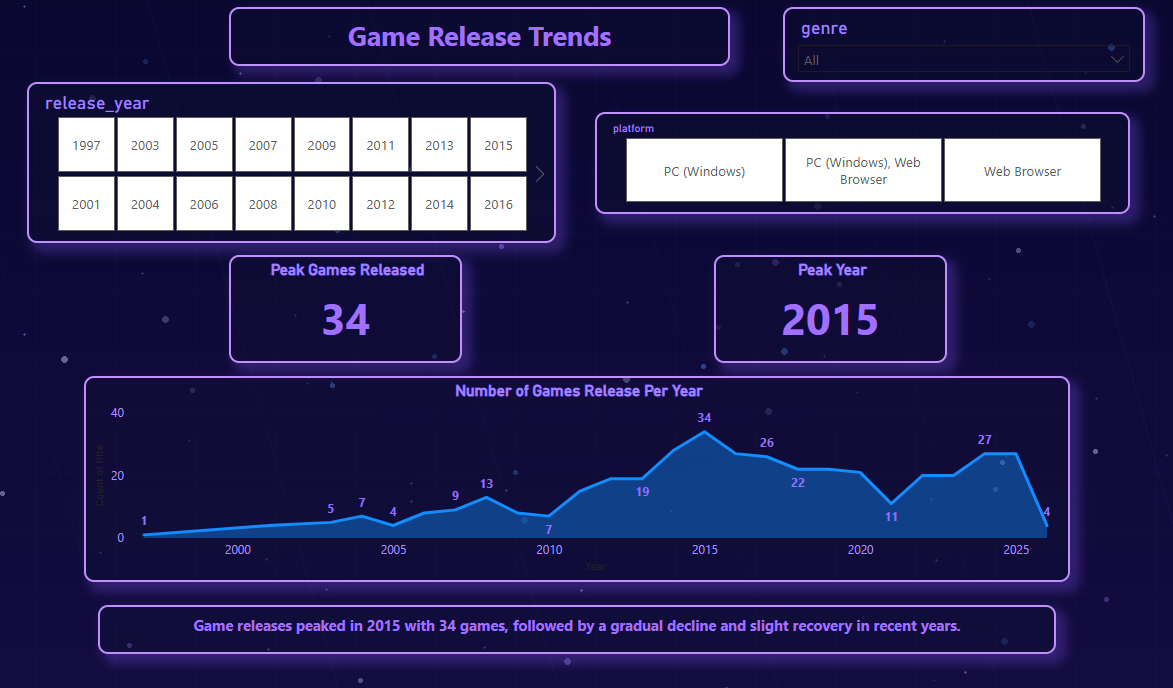

The page's visual inventory and layout, read from the dashboard file:
{"tool":"powerbi","page":{"name":"Time Trends","canvas":[1280,720],"ordinal":3},"visuals":[{"type":"slicer","fields":{"Values":["games_data.genre"]},"box":[809.1,11.8,361.8,75.5],"z":5000},{"type":"slicer","fields":{"Values":["games_data.platform"]},"box":[630,117.3,534.5,101.8],"z":6000},{"type":"slicer","fields":{"Values":["games_data.release_year"]},"box":[58.2,87.3,529.1,160.9],"z":7000},{"type":"textbox","box":[273.6,11.8,501.8,59.1],"z":8000},{"type":"areaChart","title":"Number of Games Release Per Year","fields":{"Category":["games_data.release_date.Variation.Date Hierarchy.Year"],"Y":["CountNonNull(games_data.title)"]},"box":[93.6,387.3,986.4,205.5],"z":8002},{"type":"card","title":"Peak Games Released","fields":{"Values":["Table.Max Games"]},"box":[248.2,260,232.7,108.2],"z":8003},{"type":"card","title":"Peak Year","fields":{"Values":["Table.Peak Year"]},"box":[725.5,260,232.7,108.2],"z":8004},{"type":"textbox","box":[108.2,610,958.2,49.1],"z":8005}]}

Visuals, with their boxes on the page's 1280x720 design canvas (x1, y1, x2, y2). These are canvas units, not pixel positions in the 1173x688 screenshot, which may show the page scaled, cropped or inside an application window:
slicer - games_data.genre: [left=809, top=12, right=1171, bottom=87]
slicer - games_data.platform: [left=630, top=117, right=1164, bottom=219]
slicer - games_data.release_year: [left=58, top=87, right=587, bottom=248]
textbox: [left=274, top=12, right=775, bottom=71]
"Number of Games Release Per Year" areaChart: [left=94, top=387, right=1080, bottom=593]
"Peak Games Released" card: [left=248, top=260, right=481, bottom=368]
"Peak Year" card: [left=726, top=260, right=958, bottom=368]
textbox: [left=108, top=610, right=1066, bottom=659]
